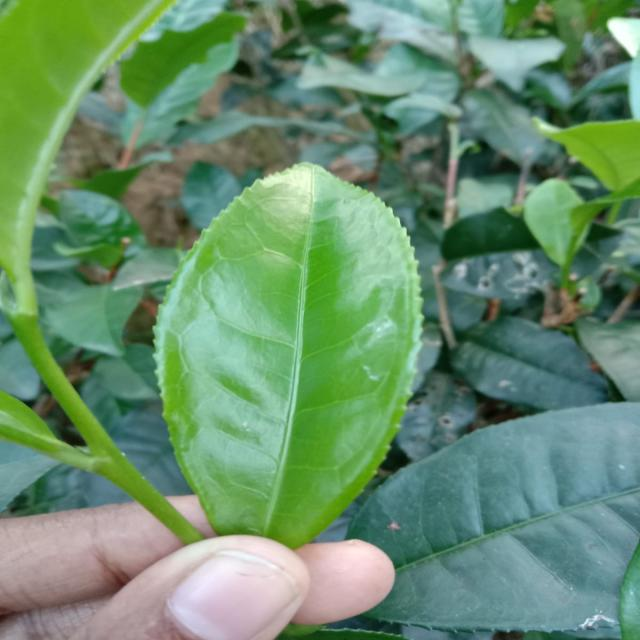Category C(4-7 days): (120, 135, 454, 567)
